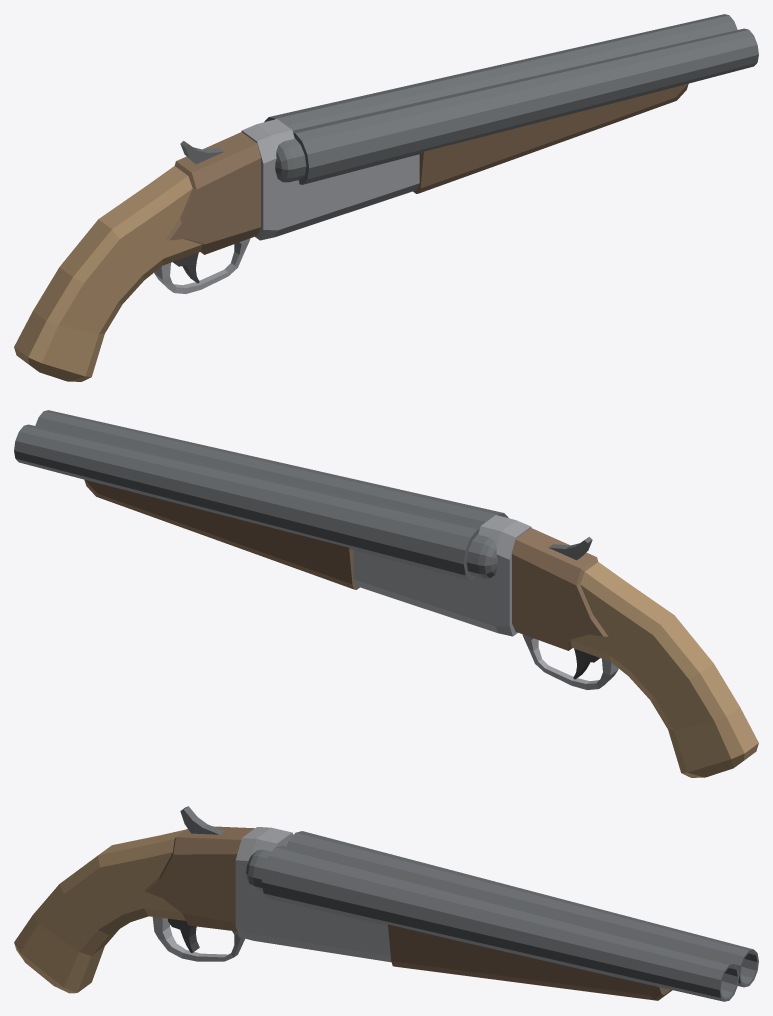
File: gun_so12.fbx
The picture shows the model from 3 angles, top to bottom: view 1: azimuth 30°, elevation 25°; view 2: azimuth 150°, elevation 25°; view 3: azimuth 330°, elevation 25°; orthographic projection.
Visible parts, largest first — view 1: Shotgun_SawedOff; view 2: Shotgun_SawedOff; view 3: Shotgun_SawedOff.
Part boxes in pixels (left/top/right/bottom): Shotgun_SawedOff: left=14, top=14, right=758, bottom=381; Shotgun_SawedOff: left=14, top=410, right=758, bottom=777; Shotgun_SawedOff: left=14, top=806, right=758, bottom=1001.
Size of the model in its own units: 62.7 by 7.18 by 17.34.
